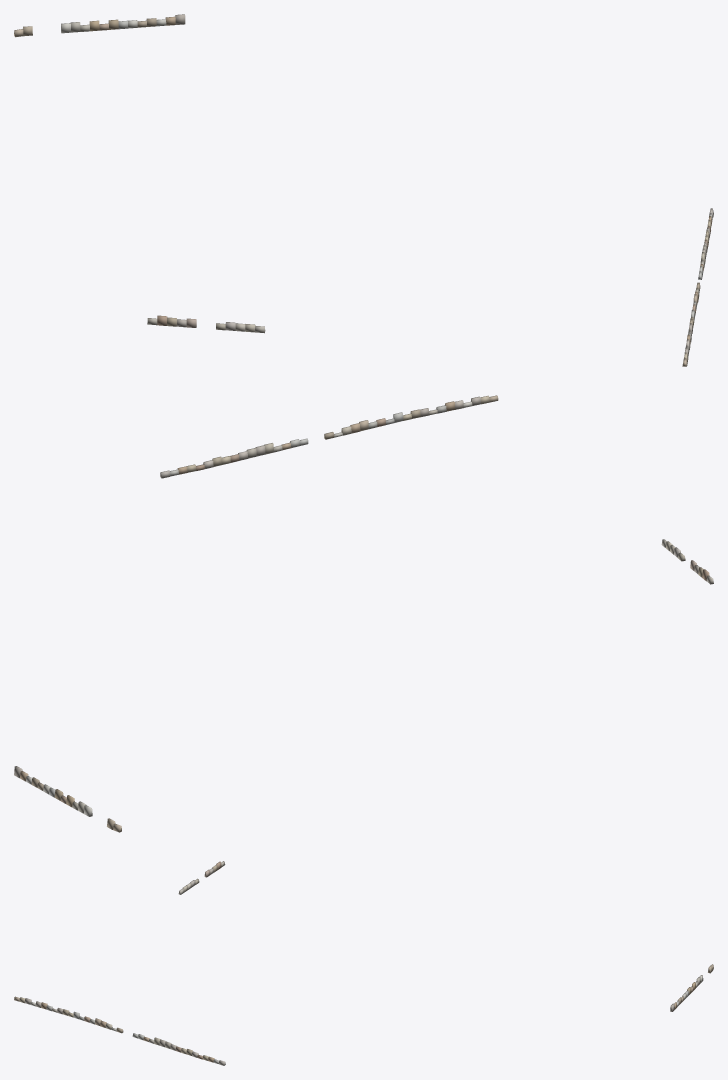
File: farm_12_13_collision.glb
3 renders of one model, top to bottom at view 1: azimuth 30°, elevation 25°; view 2: azimuth 150°, elevation 25°; view 3: azimuth 270°, elevation 25°, orthographic. The views are drawn at different scales.
Parts seen in each view (by area): view 1: geometry_0; view 2: geometry_0; view 3: geometry_0.
Boxes of the visible parts, box(x1,y1,x2,y2) form: geometry_0: box(14, 14, 713, 366); geometry_0: box(14, 395, 713, 832); geometry_0: box(14, 861, 713, 1065).
Size of the model in its own units: 105 by 8.75 by 170.
